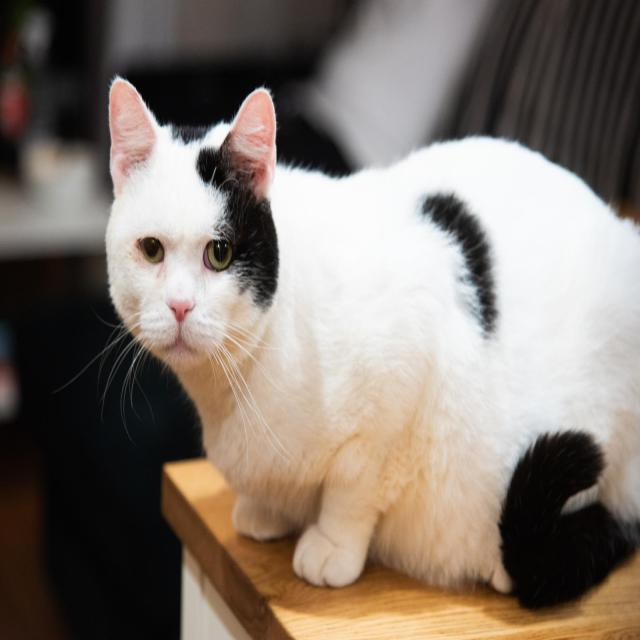american_shorthair_cat: (102, 72, 284, 382)
